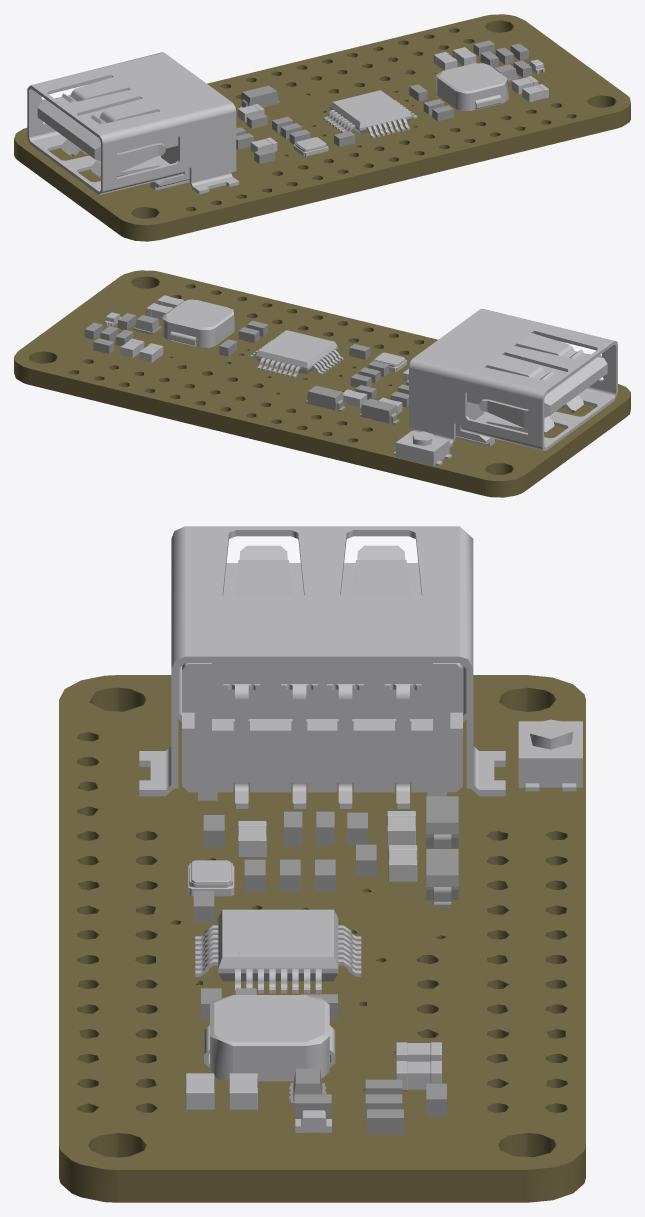
File: ada-5858.glb
3 views of the same model, one above another, from view 1: azimuth 30°, elevation 25°; view 2: azimuth 150°, elevation 25°; view 3: azimuth 270°, elevation 25° (orthographic). The views are drawn at different scales.
Parts seen in each view (by area): view 1: 0.16666666666666666_0.16666666666666666_0.08333333333333333_, 0.5833333333333334_0.5833333333333334_0.5833333333333334_0.8, 0.3333333333333333_0.3333333333333333_0.3333333333333333_0; view 2: 0.16666666666666666_0.16666666666666666_0.08333333333333333_, 0.5833333333333334_0.5833333333333334_0.5833333333333334_0.8, 0.3333333333333333_0.3333333333333333_0.3333333333333333_0; view 3: 0.16666666666666666_0.16666666666666666_0.08333333333333333_, 0.5833333333333334_0.5833333333333334_0.5833333333333334_0.8, 0.3333333333333333_0.3333333333333333_0.3333333333333333_0.
Part boxes in pixels (box(x1,y1,x2,y2)): 0.16666666666666666_0.16666666666666666_0.08333333333333333_: box(14, 14, 630, 241); 0.5833333333333334_0.5833333333333334_0.5833333333333334_0.8: box(27, 47, 549, 194); 0.3333333333333333_0.3333333333333333_0.3333333333333333_0: box(236, 40, 531, 163); 0.16666666666666666_0.16666666666666666_0.08333333333333333_: box(14, 270, 630, 497); 0.5833333333333334_0.5833333333333334_0.5833333333333334_0.8: box(104, 295, 617, 466); 0.3333333333333333_0.3333333333333333_0.3333333333333333_0: box(84, 313, 408, 424); 0.16666666666666666_0.16666666666666666_0.08333333333333333_: box(59, 675, 585, 1202); 0.5833333333333334_0.5833333333333334_0.5833333333333334_0.8: box(139, 526, 582, 1132); 0.3333333333333333_0.3333333333333333_0.3333333333333333_0: box(193, 796, 458, 1134).
Size of the model in its own units: 5.12 by 0.8499 by 2.29.
